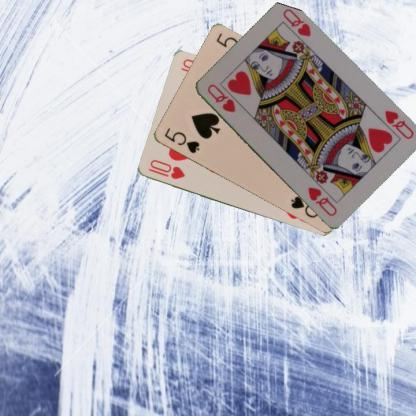10h: (145, 156, 186, 181)
5s: (161, 125, 201, 155)
Qh: (381, 108, 415, 140), (204, 81, 236, 114)
